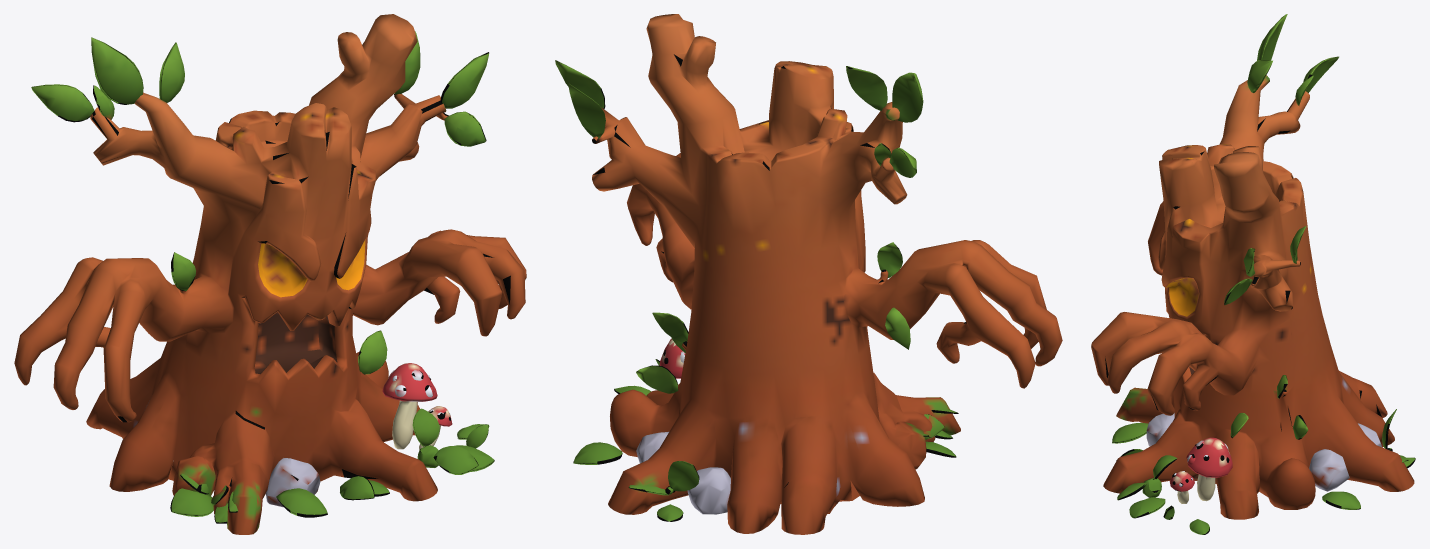
File: kit-monster-plant.glb
3 views of the same model, side by side, from view 1: azimuth 30°, elevation 25°; view 2: azimuth 150°, elevation 25°; view 3: azimuth 270°, elevation 25° (orthographic). The views are drawn at different scales.
Parts seen in each view (by area): view 1: WBA_Creature_MonsterPlant_01_WBA_MAT_Halloween_Atlas_0.001; view 2: WBA_Creature_MonsterPlant_01_WBA_MAT_Halloween_Atlas_0.001; view 3: WBA_Creature_MonsterPlant_01_WBA_MAT_Halloween_Atlas_0.001.
Boxes of the visible parts, x1,y1,x2,y2 form: WBA_Creature_MonsterPlant_01_WBA_MAT_Halloween_Atlas_0.001: (14, 14, 526, 534); WBA_Creature_MonsterPlant_01_WBA_MAT_Halloween_Atlas_0.001: (555, 14, 1062, 534); WBA_Creature_MonsterPlant_01_WBA_MAT_Halloween_Atlas_0.001: (1091, 14, 1415, 534).
Bounding box in the file's own units: 4.47 × 3.97 × 3.08.
1 material, 1 textured.
